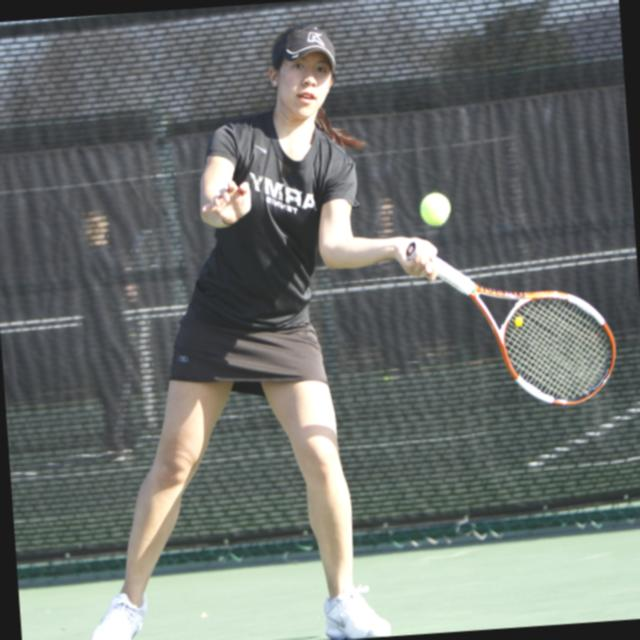Tennis Ball: (416, 190, 451, 228)
